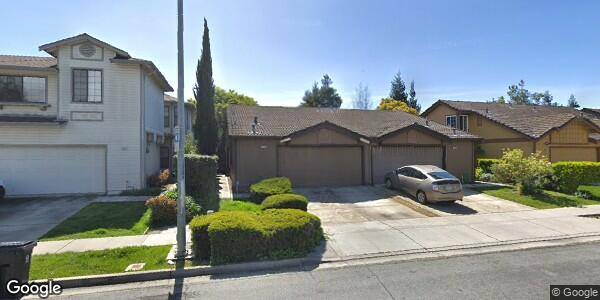Steel_Pole: (167, 1, 193, 260)
